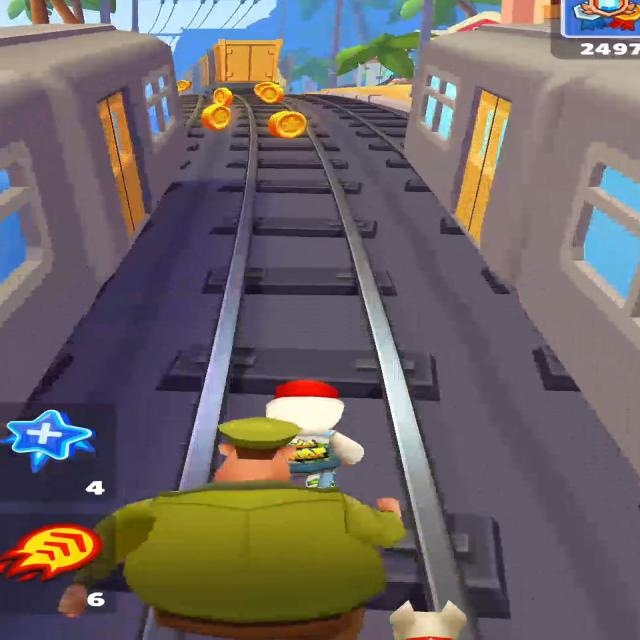police: (59, 417, 405, 640)
train: (404, 24, 639, 475), (0, 24, 187, 408), (199, 39, 281, 93)
